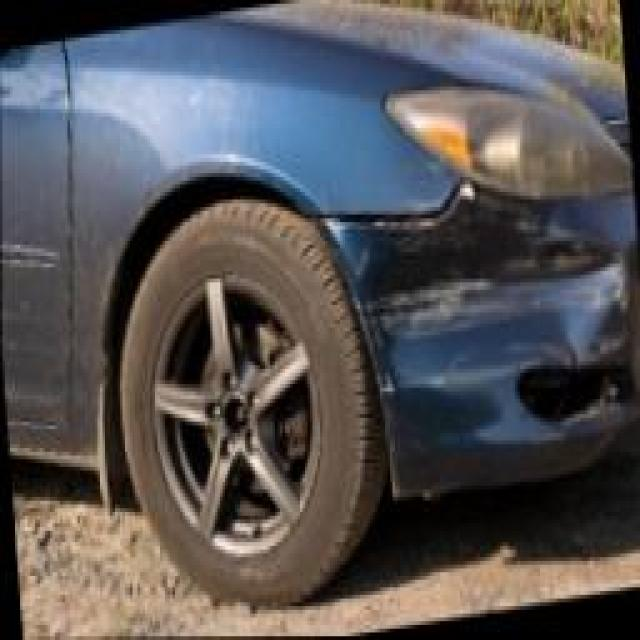Bumper: (352, 177, 639, 499)
